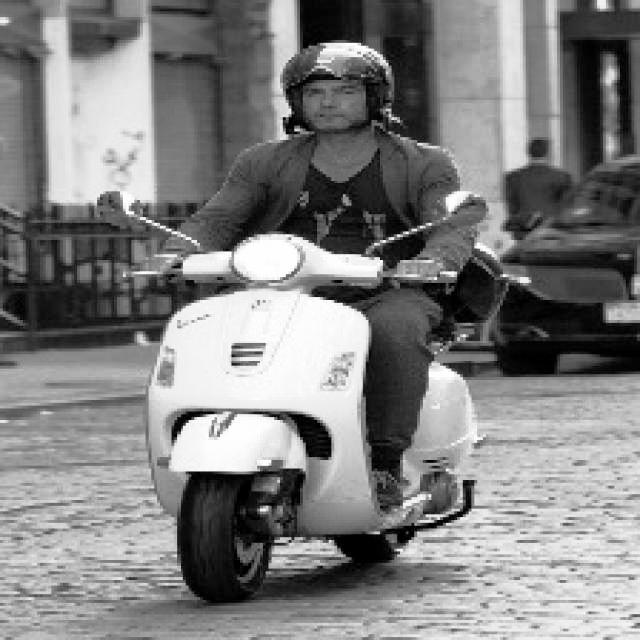Bike: (142, 247, 489, 599)
